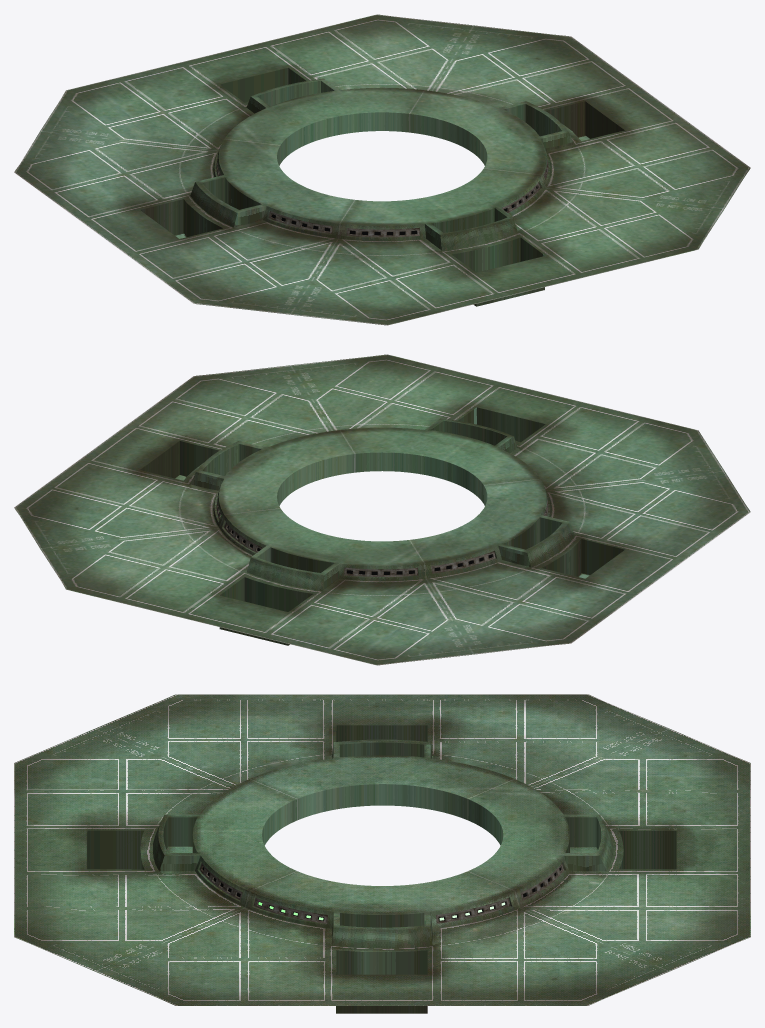
File: table mp_main padding with health indicator side2.glb
The picture shows the model from 3 angles, top to bottom: view 1: azimuth 30°, elevation 25°; view 2: azimuth 150°, elevation 25°; view 3: azimuth 270°, elevation 25°; orthographic projection. The views are drawn at different scales.
Visible parts, largest first — view 1: tabletop main padding, tabletop main padding_005; view 2: tabletop main padding, tabletop main padding_006; view 3: tabletop main padding, tabletop main padding_001, tabletop main padding_007.
Boxes of the visible parts, bbox=[...] form: tabletop main padding: bbox=[14, 14, 750, 325]; tabletop main padding_005: bbox=[268, 211, 419, 237]; tabletop main padding: bbox=[14, 354, 750, 665]; tabletop main padding_006: bbox=[344, 551, 495, 576]; tabletop main padding: bbox=[14, 694, 750, 1013]; tabletop main padding_001: bbox=[199, 863, 327, 923]; tabletop main padding_007: bbox=[436, 863, 563, 923].
Size of the model in its own units: 21.29 by 1.72 by 21.26.
4 materials, 2 textured.
